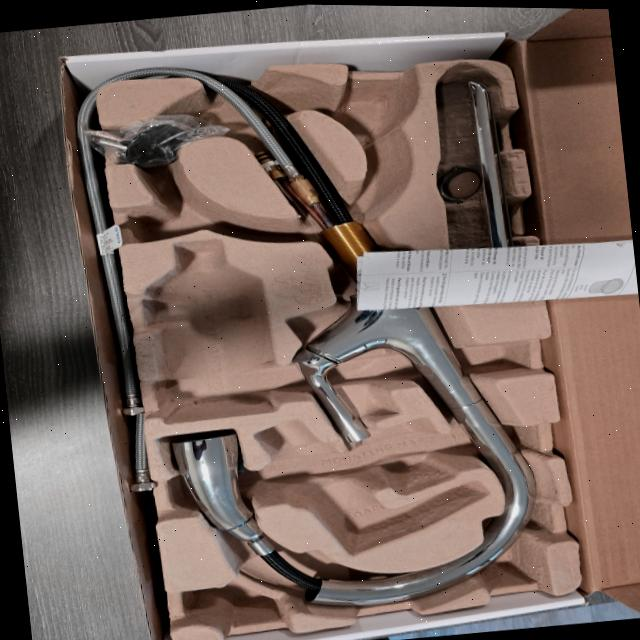1o: (173, 72, 538, 606)
2m: (254, 419, 489, 553)
3m: (148, 240, 277, 423)
4o: (434, 79, 511, 274)
5m: (334, 84, 413, 142)
6m: (131, 175, 249, 241)
7: (91, 114, 231, 169)
8: (355, 238, 637, 310)
